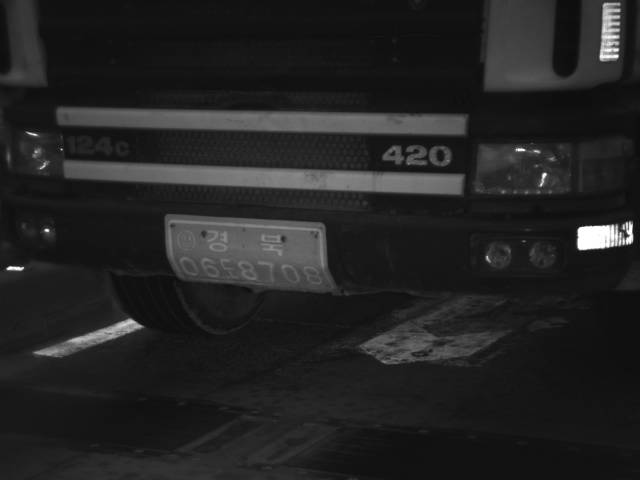car: (1, 1, 639, 339)
plate: (165, 216, 339, 295)
